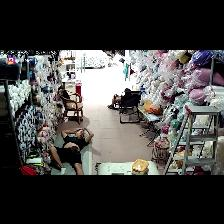person: (50, 127, 93, 174), (108, 95, 121, 109), (112, 50, 115, 58)
